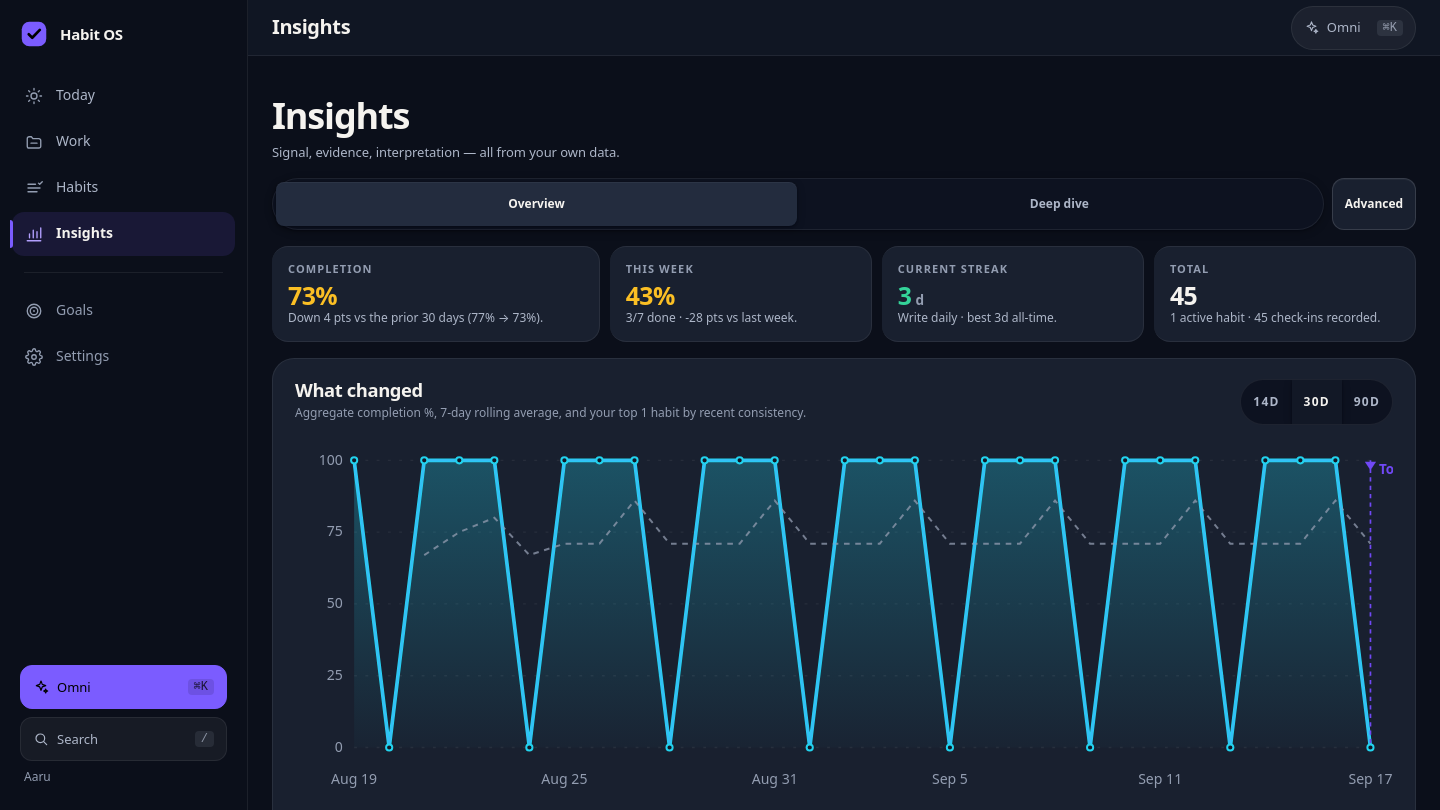
Analytics Lab shell › shows all seven views
Click the button "Advanced". click: (1374, 204)
box: [1332, 178, 1416, 230]
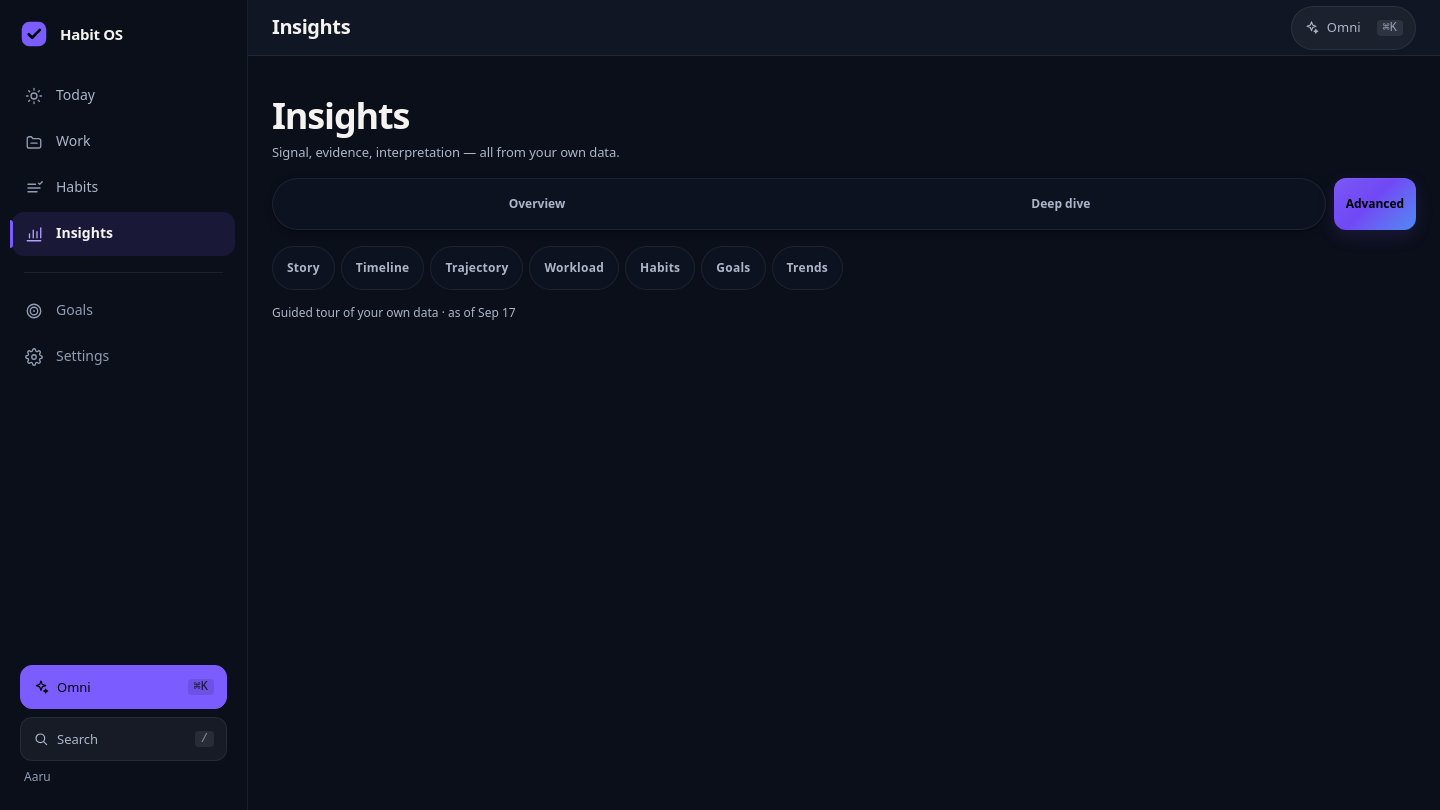
Expected: the tab "Story" is shown, [272, 246, 335, 290]
Expected: the tab "Trajectory" is shown, [430, 246, 523, 290]
Expected: the tab "Habits" is shown, [625, 246, 695, 290]
